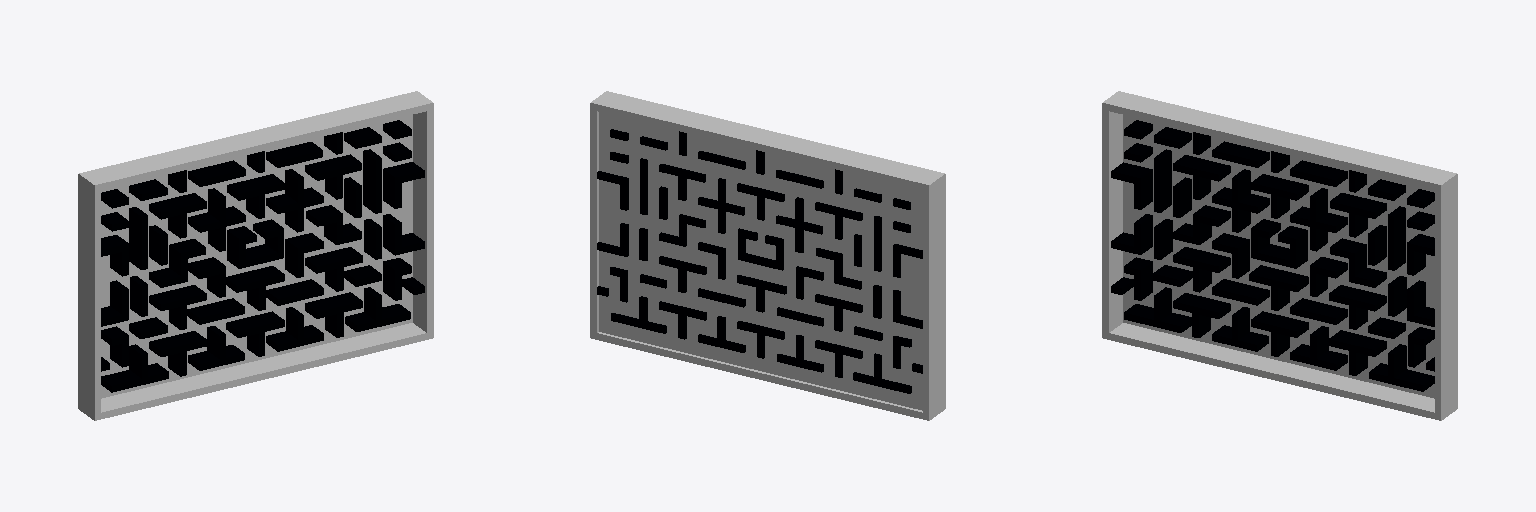
The model's file is mapa_rotado3.obj.
3 renders of one model, left to right at view 1: azimuth 30°, elevation 25°; view 2: azimuth 150°, elevation 25°; view 3: azimuth 330°, elevation 25°, orthographic.
Visible parts, largest first — view 1: Cube.005, Plane, Cube.001, Cube, Cube.002, Cube.003; view 2: Plane, Cube.005, Cube.001, Cube.002, Cube, Cube.003; view 3: Cube.005, Plane, Cube.001, Cube, Cube.003, Cube.002.
Part boxes in pixels (x1,y1,x2,y2): Cube.005: (101,120,424,392); Plane: (101,115,412,398); Cube.001: (78,91,433,191); Cube: (78,323,433,420); Cube.002: (78,181,100,413); Cube.003: (413,110,433,332); Plane: (599,112,922,410); Cube.005: (597,129,922,393); Cube.001: (590,91,945,191); Cube.002: (923,181,945,413); Cube: (590,332,945,420); Cube.003: (590,110,598,332); Cube.005: (1111,127,1434,391); Plane: (1123,115,1434,398); Cube.001: (1102,91,1457,191); Cube: (1102,323,1457,420); Cube.003: (1435,181,1457,413); Cube.002: (1102,110,1122,332).
Size of the model in its own units: 152 by 101 by 12.54.